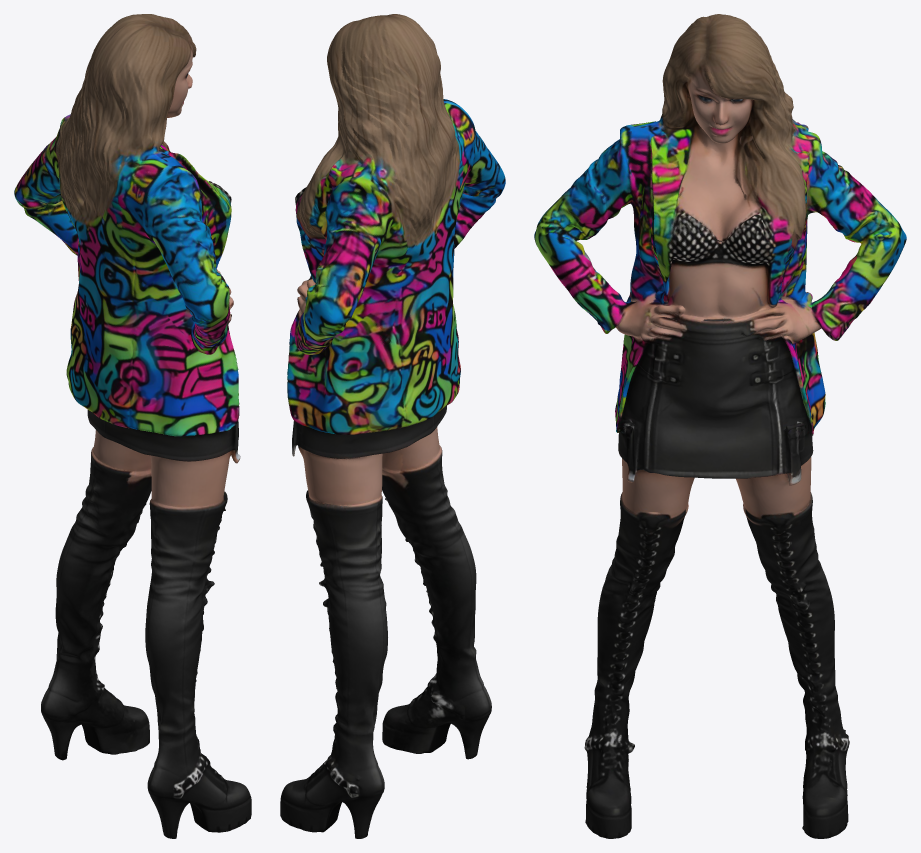
The model's file is TaylorSwift-new.glb.
The picture shows the model from 3 angles, left to right: view 1: azimuth 30°, elevation 25°; view 2: azimuth 150°, elevation 25°; view 3: azimuth 270°, elevation 25°; orthographic projection. The views are drawn at different scales.
Parts seen in each view (by area): view 1: tripo_node_84cbb415-6ccd-4552-8222-4be31e1fa256; view 2: tripo_node_84cbb415-6ccd-4552-8222-4be31e1fa256; view 3: tripo_node_84cbb415-6ccd-4552-8222-4be31e1fa256.
Part boxes in pixels (<box>): tripo_node_84cbb415-6ccd-4552-8222-4be31e1fa256: <box>14,14,251,838</box>; tripo_node_84cbb415-6ccd-4552-8222-4be31e1fa256: <box>280,14,505,838</box>; tripo_node_84cbb415-6ccd-4552-8222-4be31e1fa256: <box>534,14,906,838</box>.
Bounding box in the file's own units: 0.1799 × 1 × 0.4255.
1 material, 1 textured.
